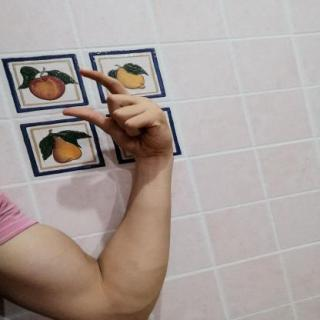DELL: (55, 64, 180, 164)
